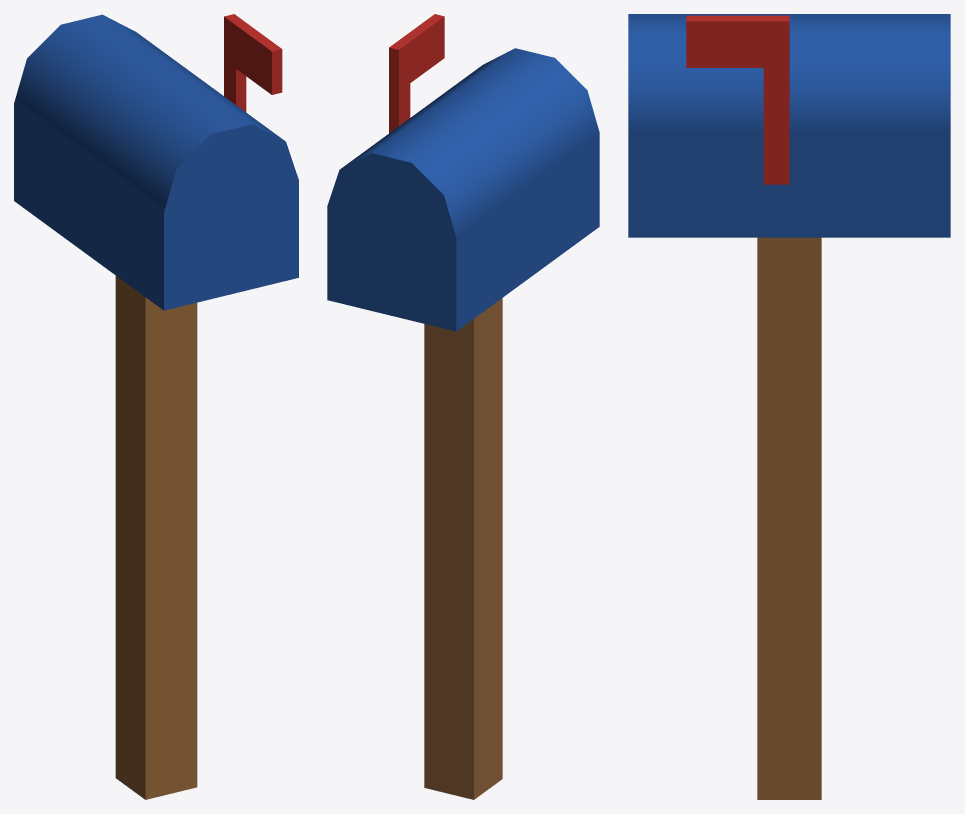
Rendered from sb_mailbox.glb.
The picture shows the model from 3 angles, left to right: view 1: azimuth 30°, elevation 25°; view 2: azimuth 150°, elevation 25°; view 3: azimuth 270°, elevation 25°; orthographic projection. The views are drawn at different scales.
Visible parts, largest first — view 1: sb_mailbox; view 2: sb_mailbox; view 3: sb_mailbox.
Part boxes in pixels (left/top/right/bottom): sb_mailbox: left=14, top=14, right=298, bottom=799; sb_mailbox: left=327, top=14, right=599, bottom=799; sb_mailbox: left=628, top=14, right=950, bottom=799.
Size of the model in its own units: 0.28 by 1.38 by 0.5.
